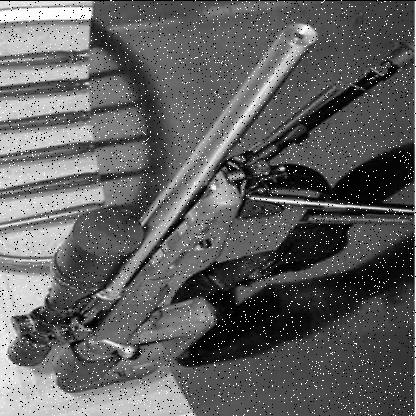rifle: (34, 11, 360, 395)
